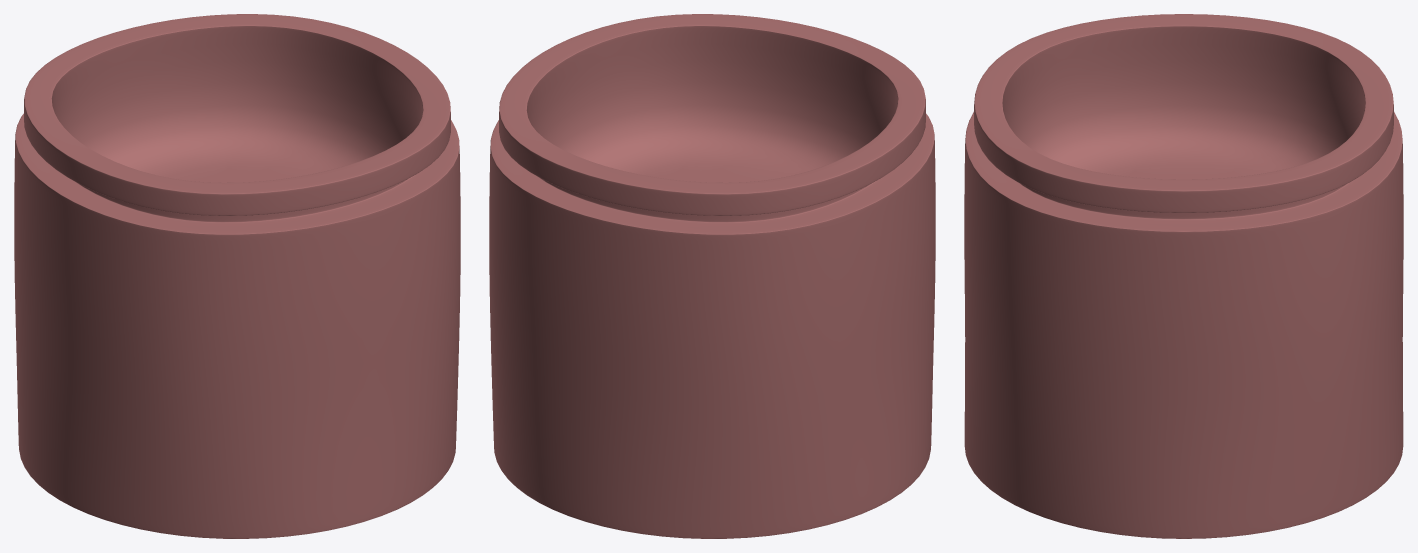
File: jar_short.fbx
3 views of the same model, side by side, from view 1: azimuth 30°, elevation 25°; view 2: azimuth 150°, elevation 25°; view 3: azimuth 270°, elevation 25° (orthographic).
Parts seen in each view (by area): view 1: jar_short; view 2: jar_short; view 3: jar_short.
Part boxes in pixels (x1,y1,x2,y2): jar_short: (14, 14, 460, 538); jar_short: (489, 14, 935, 538); jar_short: (964, 14, 1403, 538).
Size of the model in its own units: 39.63 by 34.27 by 39.63.
